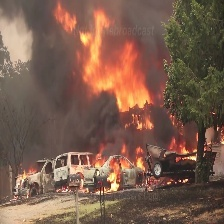fire: (53, 3, 155, 124), (90, 144, 146, 193), (17, 166, 36, 183), (55, 184, 70, 193)
